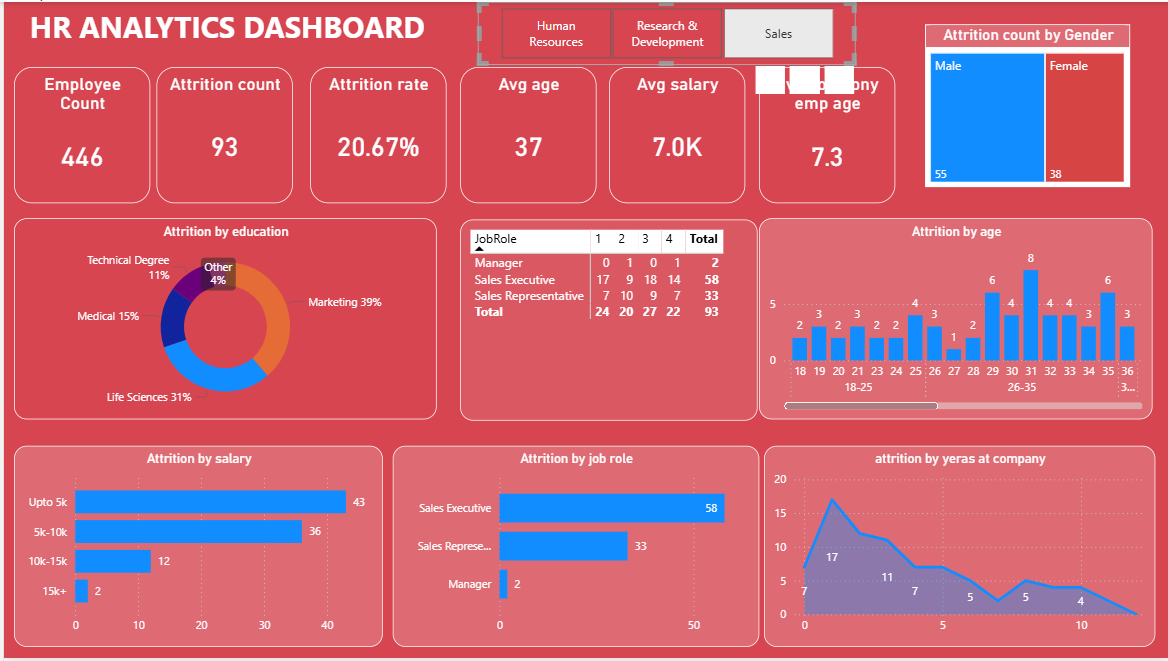

What the dashboard file says about the page in this screenshot:
{"tool":"powerbi","page":{"name":"Page 1","canvas":[1280,720],"ordinal":0},"visuals":[{"type":"card","title":"Employee Count","fields":{"Values":["Count(HR_Analytics.EmpID)"]},"box":[11,71.4,149.6,149.6],"z":0},{"type":"card","title":"Avg salary","fields":{"Values":["Avg(HR_Analytics.MonthlyIncome)"]},"box":[664.2,71.4,149.6,149.6],"z":1000},{"type":"card","title":"Attrition count","fields":{"Values":["Sum(HR_Analytics.Attrition count)"]},"box":[167.4,71.4,149.6,149.6],"z":2000},{"type":"card","title":"Avg age","fields":{"Values":["Avg(HR_Analytics.Age)"]},"box":[500.9,71.4,149.6,149.6],"z":3000},{"type":"card","title":"Attrition rate","fields":{"Values":["HR_Analytics.Attrition rate"]},"box":[336.2,71.4,149.6,149.6],"z":4000},{"type":"card","title":"avg comapny emp age","fields":{"Values":["Avg(HR_Analytics.YearsAtCompany)"]},"box":[828.8,71.4,149.6,149.6],"z":5000},{"type":"donutChart","title":"Attrition by education","fields":{"Category":["HR_Analytics.EducationField"],"Y":["Sum(HR_Analytics.Attrition count)"]},"box":[11,237.4,463.8,220.9],"z":6000},{"type":"columnChart","title":"Attrition by age","fields":{"Category":["HR_Analytics.AgeGroup","HR_Analytics.Age"],"Y":["Sum(HR_Analytics.Attrition count)"]},"box":[828.8,237.4,432.2,220.9],"z":7000},{"type":"pivotTable","fields":{"Rows":["HR_Analytics.JobRole"],"Columns":["HR_Analytics.JobSatisfaction"],"Values":["Sum(HR_Analytics.Attrition count)"]},"box":[487.4,237.7,326.9,220.8],"z":8000},{"type":"barChart","title":"Attrition by salary","fields":{"Category":["HR_Analytics.SalarySlab"],"Y":["Sum(HR_Analytics.Attrition count)"]},"box":[11,487.1,404.8,220.9],"z":9000},{"type":"barChart","title":"Attrition by job role","fields":{"Category":["HR_Analytics.JobRole"],"Y":["Sum(HR_Analytics.Attrition count)"]},"box":[426.8,487.1,402.1,220.9],"z":10000},{"type":"stackedAreaChart","title":"attrition by yeras at company","fields":{"Category":["HR_Analytics.YearsAtCompany"],"Y":["Sum(HR_Analytics.Attrition count)"]},"box":[834.3,487.1,429.5,220.9],"z":11000},{"type":"treemap","title":" Attrition count by Gender","fields":{"Group":["HR_Analytics.Gender"],"Values":["Sum(HR_Analytics.Attrition count)"]},"box":[1011.3,24.7,225,178.4],"z":12000},{"type":"slicer","fields":{"Values":["HR_Analytics.Department"]},"box":[520.1,0,414.4,68.6],"z":12001},{"type":"textbox","box":[23.3,0,463.3,58.3],"z":12002}]}

Visuals, with their boxes in screenshot pixels (x1, y1, x2, y2), scaled from the page's 1280x720 canvas onto the 1168x661 screenshot:
"Employee Count" card: 10:66:147:203
"Avg salary" card: 606:66:743:203
"Attrition count" card: 153:66:289:203
"Avg age" card: 457:66:594:203
"Attrition rate" card: 307:66:443:203
"avg comapny emp age" card: 756:66:893:203
"Attrition by education" donutChart: 10:218:433:421
"Attrition by age" columnChart: 756:218:1151:421
pivotTable - HR_Analytics.JobRole x HR_Analytics.JobSatisfaction: 445:218:743:421
"Attrition by salary" barChart: 10:447:379:650
"Attrition by job role" barChart: 389:447:756:650
"attrition by yeras at company" stackedAreaChart: 761:447:1153:650
" Attrition count by Gender" treemap: 923:23:1128:186
slicer - HR_Analytics.Department: 475:0:853:63
textbox: 21:0:444:54
